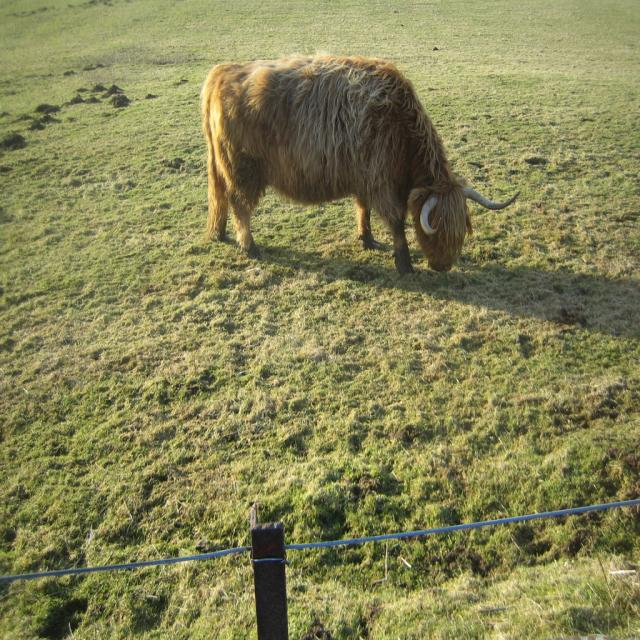Cattle: (205, 49, 522, 280)
